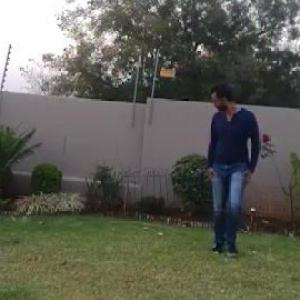follow: (202, 70, 262, 267)
